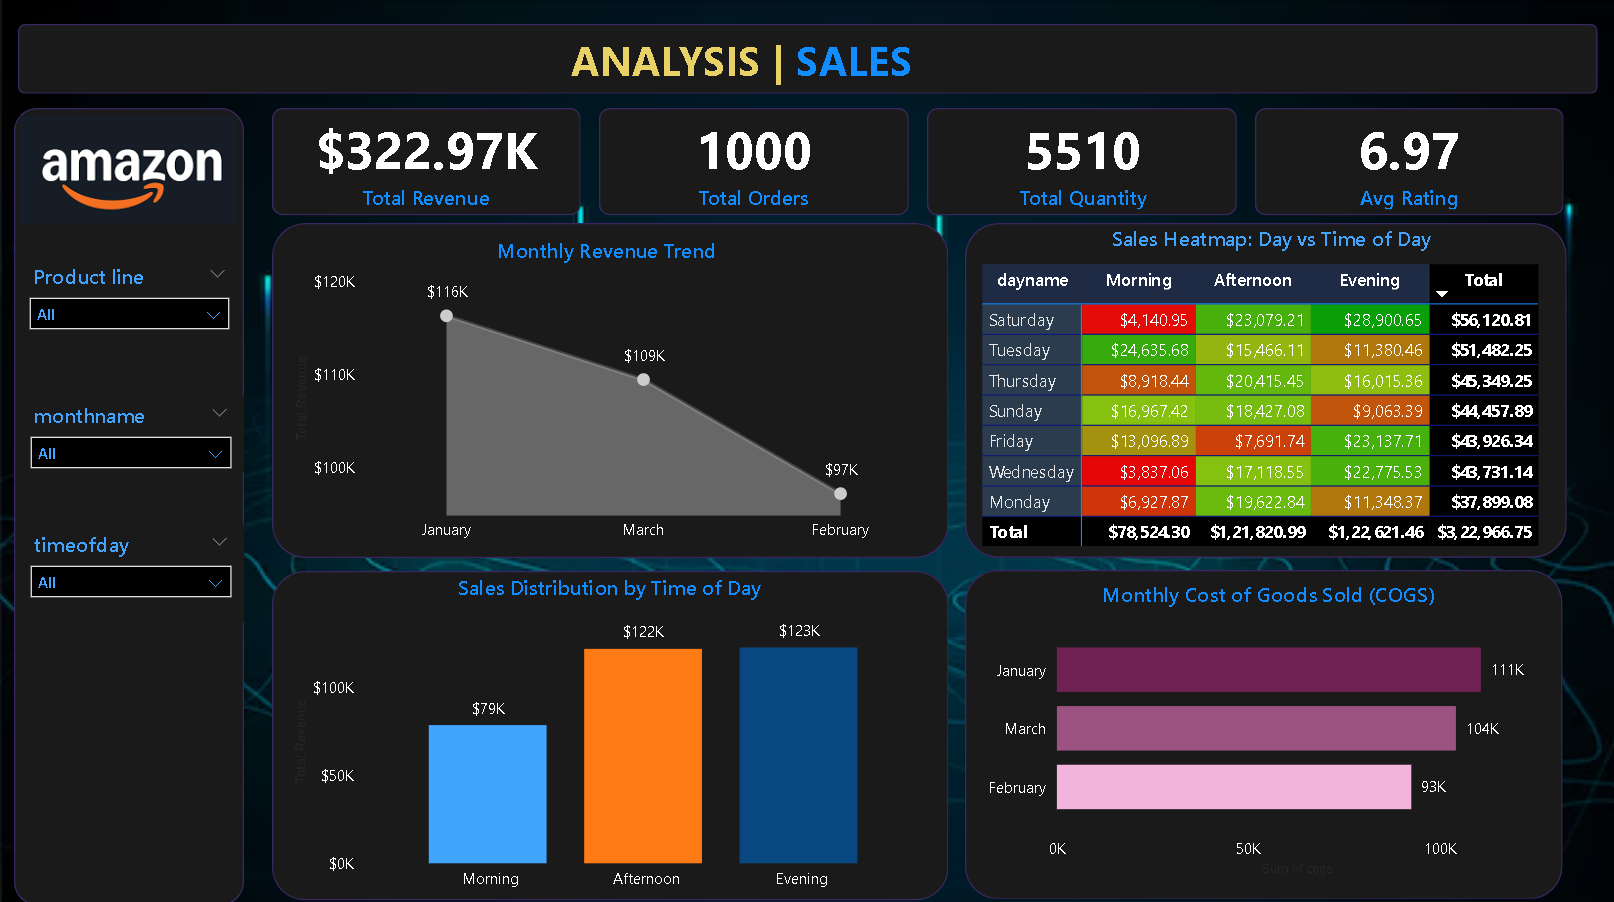

This screenshot's page, from the dashboard's own definition file:
{"tool":"powerbi","page":{"name":"Sales Analysis","canvas":[1280,720],"ordinal":1},"visuals":[{"type":"shape","box":[14.7,23.6,1249.8,55.2],"z":0,"group":"g5"},{"type":"shape","box":[12.1,89.7,182,630.7],"z":0,"group":"g6"},{"type":"group","id":"g1","title":"Group 1","box":[215.6,89.7,1022.1,85.4],"z":0},{"type":"shape","box":[215.6,89.7,244.3,84.8],"z":0,"group":"g1"},{"type":"textbox","box":[447.1,23.3,298.4,59.5],"z":1000,"group":"g5"},{"type":"image","box":[11.2,89.7,182,98.1],"z":1000,"group":"g6"},{"type":"shape","box":[474.6,89.7,245.2,84.8],"z":1000,"group":"g1"},{"type":"group","id":"g2","title":"Group 2","box":[215.6,180.3,535.6,264.8],"z":1000,"group":"g7"},{"type":"group","id":"g3","title":"Group 4","box":[215.6,455.4,535.3,260.6],"z":1000},{"type":"shape","box":[733.5,89.7,245.2,84.8],"z":2000,"group":"g1"},{"type":"shape","box":[764.2,180.3,476.1,264.8],"z":2000,"group":"g8"},{"type":"slicer","fields":{"Values":["amazon.Product line"]},"box":[14.7,207,177.7,75],"z":2000,"group":"g6"},{"type":"group","id":"g4","title":"Group 5","box":[764.2,454.6,472.7,260.5],"z":2000},{"type":"group","id":"g5","title":"Group 7","box":[14.7,23.3,1249.8,59.5],"z":3000},{"type":"shape","box":[993.4,89.7,244.3,84.8],"z":3000,"group":"g1"},{"type":"slicer","fields":{"Values":["Dim_Date.timeofday"]},"box":[15.3,418.6,178.5,78.5],"z":3000,"group":"g6"},{"type":"group","id":"g6","title":"Group 3","box":[11.2,89.7,182.9,630.7],"z":4000},{"type":"card","fields":{"Values":["amazon.Total Revenue"]},"box":[215.6,89.7,244.3,84.8],"z":4000,"group":"g1"},{"type":"shape","box":[215.6,180.3,535.3,265],"z":4000,"group":"g2"},{"type":"pivotTable","title":"Sales Heatmap: Day vs Time of Day","fields":{"Rows":["Dim_Date.dayname"],"Columns":["Dim_Date.timeofday"],"Values":["amazon.Total Revenue"]},"box":[772.8,182,467.5,263.1],"z":4000,"group":"g8"},{"type":"slicer","fields":{"Values":["Dim_Date.monthname"]},"box":[15.5,316.5,178.5,61.2],"z":4000,"group":"g6"},{"type":"card","fields":{"Values":["amazon.Total Orders"]},"box":[475.5,89.7,244.3,84.8],"z":5000,"group":"g1"},{"type":"group","id":"g7","title":"Group 8","box":[215.6,180.3,535.6,264.8],"z":5000},{"type":"shape","box":[215.6,455.4,535.3,260.6],"z":5000,"group":"g3"},{"type":"card","fields":{"Values":["amazon.Total Quantity"]},"box":[735.4,89.7,244.3,84.8],"z":6000,"group":"g1"},{"type":"group","id":"g8","title":"Group 6","box":[764.2,180.3,476.1,264.8],"z":6000},{"type":"clusteredColumnChart","title":"Sales Distribution by Time of Day","fields":{"Category":["Dim_Date.timeofday"],"Y":["amazon.Total Revenue"]},"box":[227.1,457.6,510.6,257.9],"z":6000,"group":"g3"},{"type":"card","fields":{"Values":["amazon.Avg Rating"]},"box":[993.4,89.7,244.3,84.8],"z":7000,"group":"g1"},{"type":"lineChart","title":"Monthly Revenue Trend","fields":{"Y":["amazon.Total Revenue"],"Category":["Dim_Date.monthname"]},"box":[228.5,191.5,504.6,248.4],"z":7000,"group":"g7"},{"type":"shape","box":[764.2,454.6,472.7,260.5],"z":7000,"group":"g4"},{"type":"barChart","title":"Monthly Cost of Goods Sold (COGS)","fields":{"Y":["Sum(amazon.cogs)"],"Category":["Dim_Date.monthname"]},"box":[772.6,463.5,463.2,238.1],"z":8000,"group":"g4"}]}

Visuals, with their boxes in screenshot pixels (x1, y1, x2, y2), scaled from the page's 1280x720 canvas onto the 1614x902 screenshot:
shape: 19 30 1594 99
shape: 15 112 245 901
"Group 1" group: 272 112 1561 219
shape: 272 112 580 219
textbox: 564 29 940 104
image: 14 112 244 235
shape: 598 112 908 219
"Group 2" group: 272 226 947 558
"Group 4" group: 272 571 947 897
shape: 925 112 1234 219
shape: 964 226 1564 558
slicer - amazon.Product line: 19 259 243 353
"Group 5" group: 964 570 1560 896
"Group 7" group: 19 29 1594 104
shape: 1253 112 1561 219
slicer - Dim_Date.timeofday: 19 524 244 623
"Group 3" group: 14 112 245 901
card - amazon.Total Revenue: 272 112 580 219
shape: 272 226 947 558
"Sales Heatmap: Day vs Time of Day" pivotTable: 974 228 1564 558
slicer - Dim_Date.monthname: 20 397 245 473
card - amazon.Total Orders: 600 112 908 219
"Group 8" group: 272 226 947 558
shape: 272 571 947 897
card - amazon.Total Quantity: 927 112 1235 219
"Group 6" group: 964 226 1564 558
"Sales Distribution by Time of Day" clusteredColumnChart: 286 573 930 896
card - amazon.Avg Rating: 1253 112 1561 219
"Monthly Revenue Trend" lineChart: 288 240 924 551
shape: 964 570 1560 896
"Monthly Cost of Goods Sold (COGS)" barChart: 974 581 1558 879
